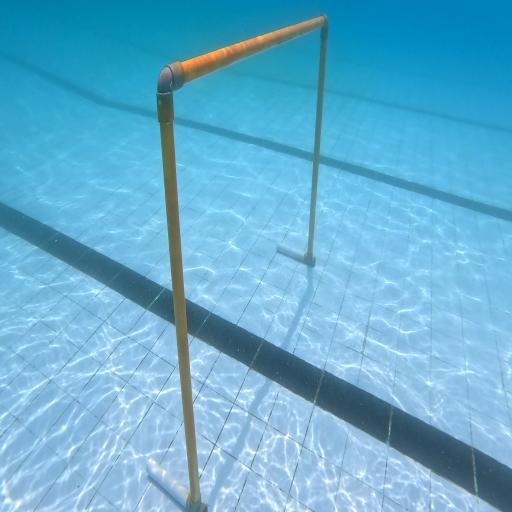gate: (147, 14, 329, 512)
